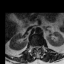CCS_normal: (36, 43, 38, 52)
LFS_stenosis: (40, 43, 42, 49)
LLS_normal: (38, 43, 40, 50)
RFS_normal: (31, 43, 34, 50)
RLS_normal: (34, 43, 36, 50)
